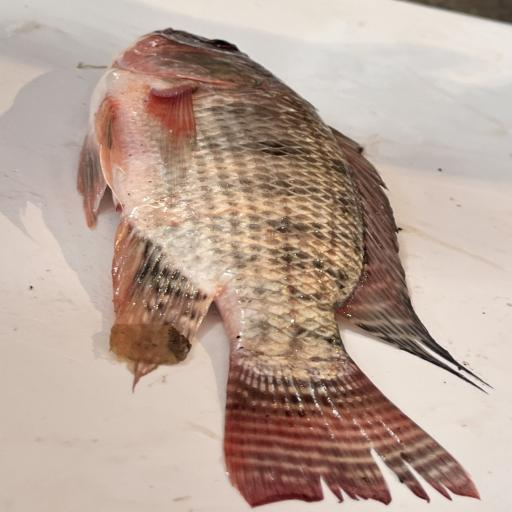Tilapia: (76, 28, 494, 509)
